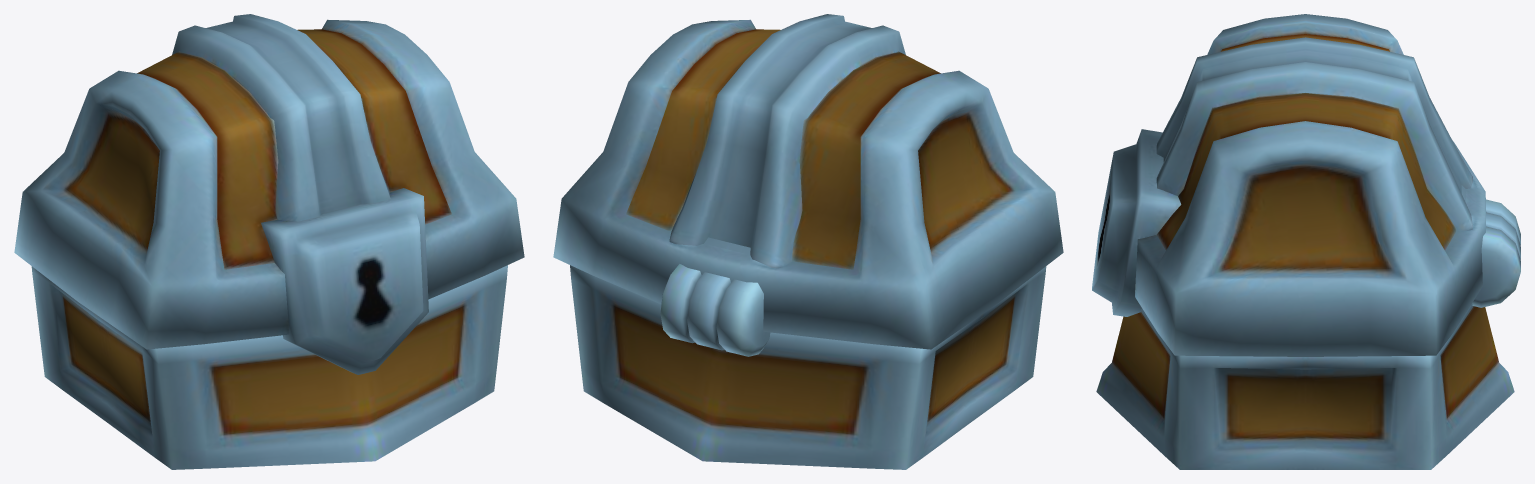
The model's file is treasure-chest.glb.
3 views of the same model, side by side, from view 1: azimuth 30°, elevation 25°; view 2: azimuth 150°, elevation 25°; view 3: azimuth 270°, elevation 25° (orthographic).
Parts seen in each view (by area): view 1: TreasureChest; view 2: TreasureChest; view 3: TreasureChest.
Boxes of the visible parts, box(x1,y1,x2,y2) form: TreasureChest: box(14, 14, 524, 469); TreasureChest: box(553, 14, 1063, 469); TreasureChest: box(1092, 14, 1520, 469).
Bounding box in the file's own units: 2.75 × 2.36 × 2.7.
Materials: 1 (1 with a texture image).
